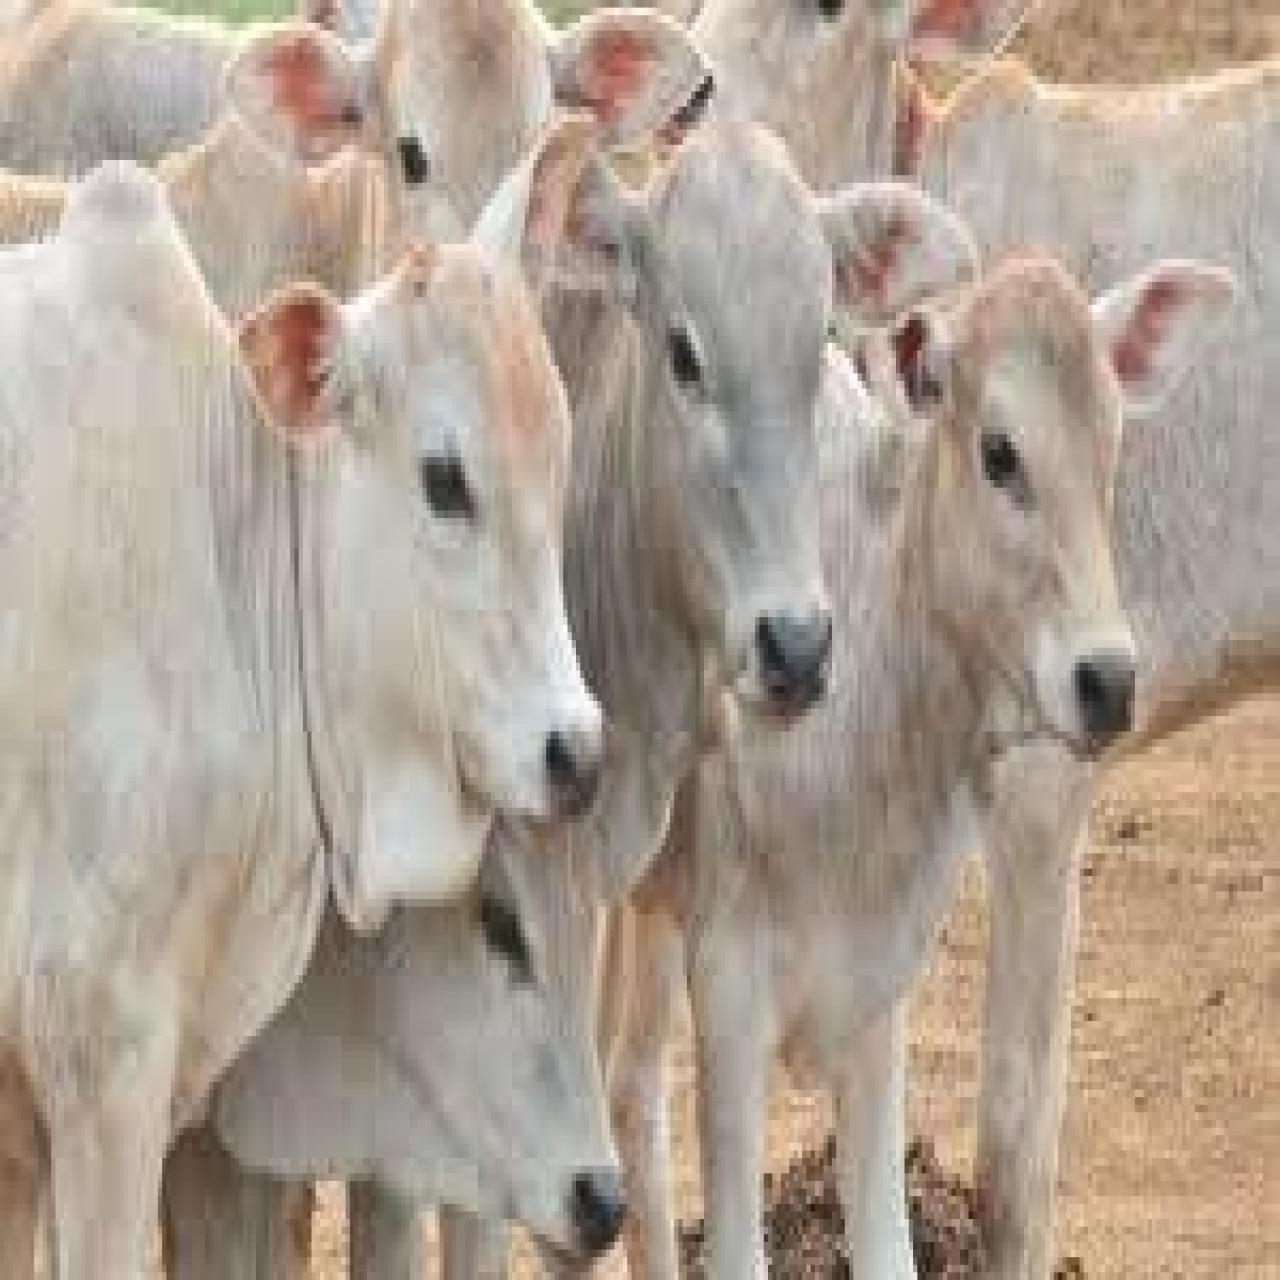cow: (0, 118, 627, 1276), (622, 266, 1250, 1280), (533, 118, 973, 735), (346, 823, 627, 1280)
